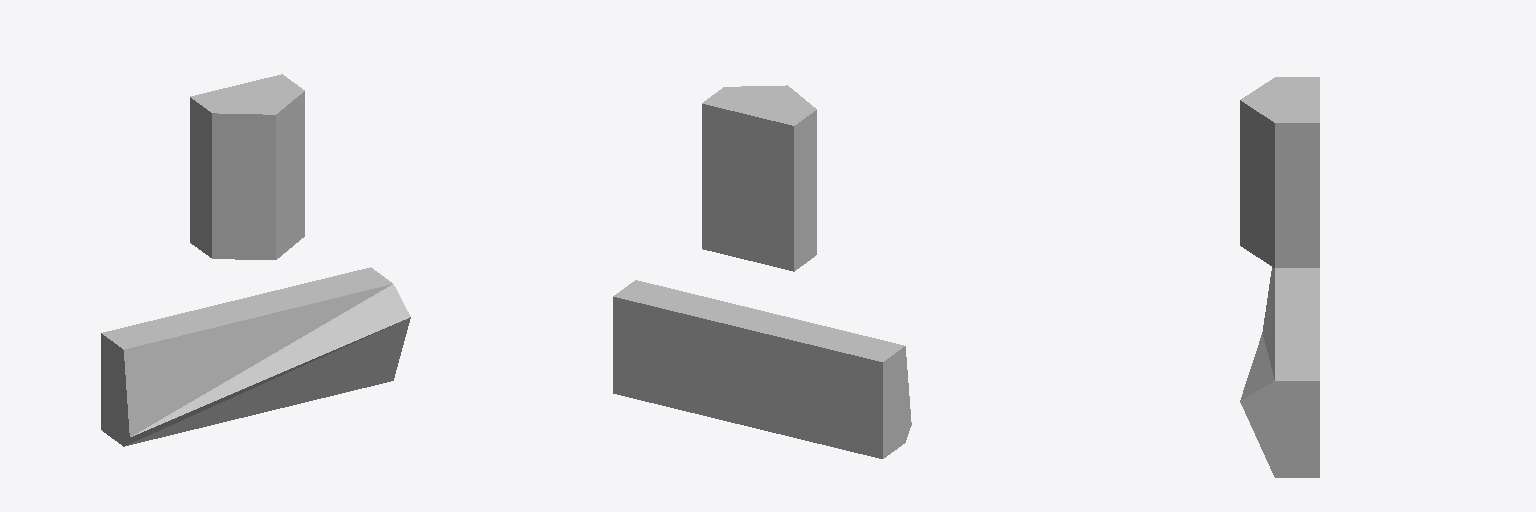
The model's file is cabin_volumes.obj.
3 renders of one model, left to right at view 1: azimuth 30°, elevation 25°; view 2: azimuth 150°, elevation 25°; view 3: azimuth 270°, elevation 25°, orthographic.
Visible parts, largest first — view 1: Cube.001, Cube.002; view 2: Cube.001, Cube.002; view 3: Cube.002, Cube.001.
Part boxes in pixels (bbox=[...]): Cube.001: bbox=[101, 267, 410, 446]; Cube.002: bbox=[190, 74, 304, 259]; Cube.001: bbox=[613, 280, 911, 458]; Cube.002: bbox=[702, 85, 816, 271]; Cube.002: bbox=[1240, 77, 1319, 267]; Cube.001: bbox=[1240, 267, 1319, 477].
Bounding box in the file's own units: 16.88 × 18.63 × 4.34.